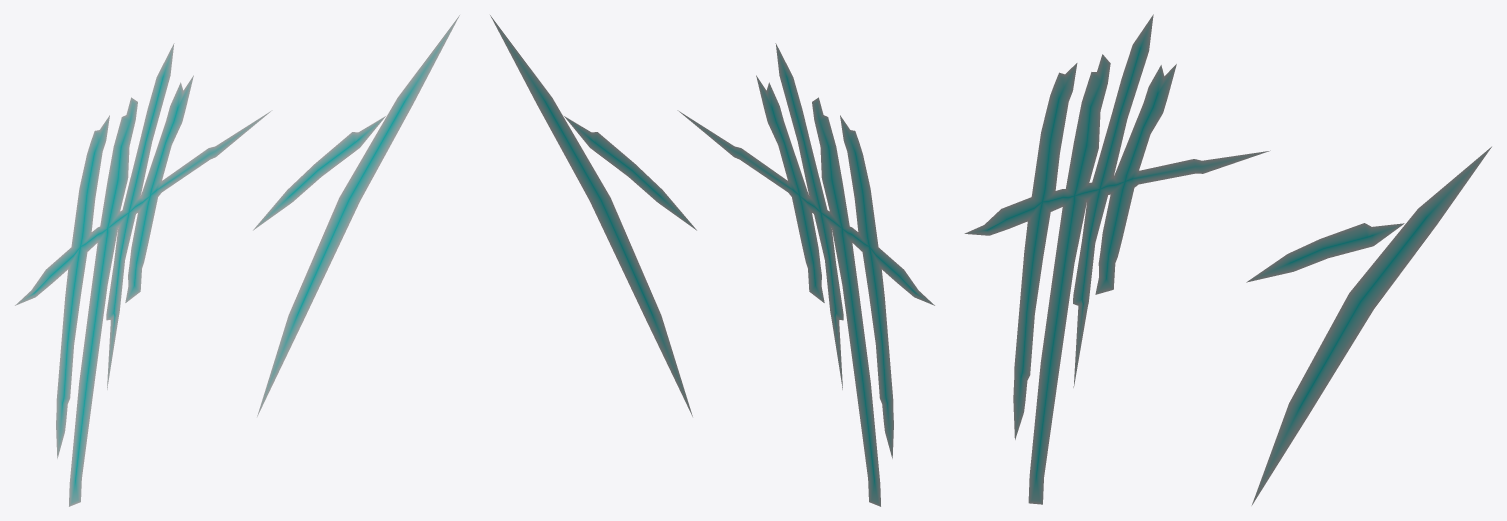
File: SM_EFF_Text_NeedleJizo_01.glb
3 views of the same model, side by side, from view 1: azimuth 30°, elevation 25°; view 2: azimuth 150°, elevation 25°; view 3: azimuth 330°, elevation 25° (orthographic). The views are drawn at different scales.
Parts seen in each view (by area): view 1: SM_EFF_Text_NeedleJizo_01; view 2: SM_EFF_Text_NeedleJizo_01; view 3: SM_EFF_Text_NeedleJizo_01.
Boxes of the visible parts, x1,y1,x2,y2 form: SM_EFF_Text_NeedleJizo_01: (15, 15, 459, 506); SM_EFF_Text_NeedleJizo_01: (490, 15, 934, 506); SM_EFF_Text_NeedleJizo_01: (964, 14, 1491, 505).
Bounding box in the file's own units: 0.9737 × 0.915 × 5.6e-17.
